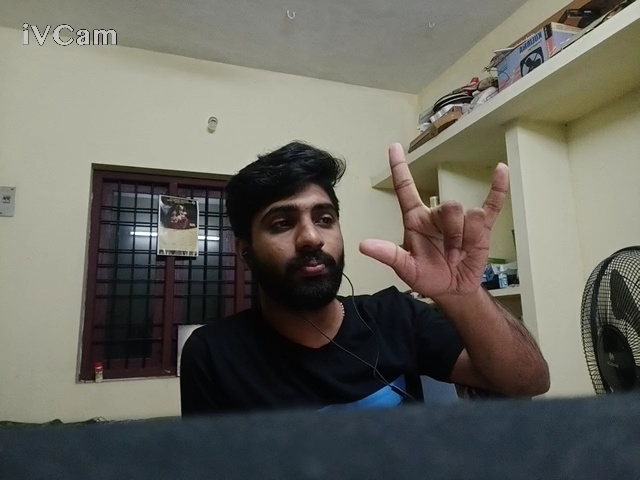I Love You: (337, 129, 533, 325)
